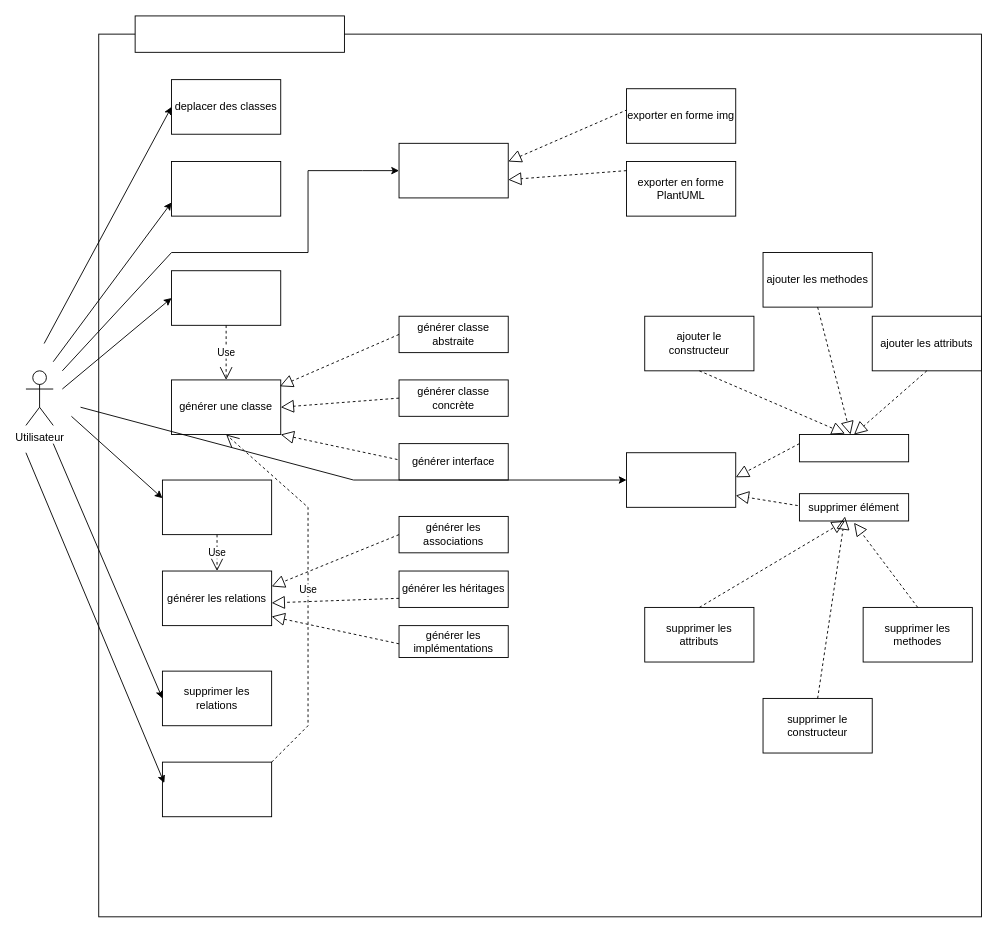
Image size: 997x933. Some labels were removed from this diagram. Here are the shapes that lost their labels. From the top down, the centre of each, then its label:
point 239,33: Générateur diagramme de classe
point 226,188: supprimer une classe
point 453,170: exporter des diagrammes de classe
point 226,297: ajouter une classe
point 854,448: ajouter élément
point 681,479: Modifier des classes
point 217,507: afficher les relations
point 217,789: drag and drop les classes
